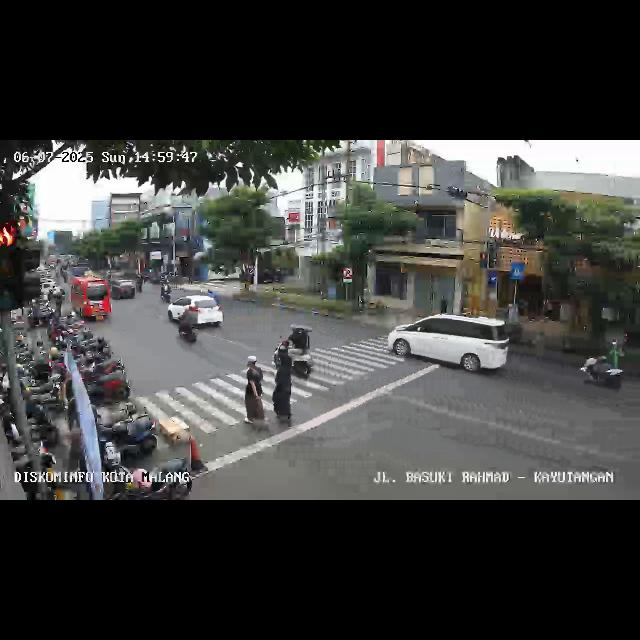car: (392, 314, 516, 378), (164, 294, 223, 328), (70, 277, 111, 323)
motorcycle: (580, 342, 628, 392), (276, 323, 314, 381), (177, 303, 200, 345), (160, 278, 170, 302)
person: (270, 344, 296, 428), (243, 358, 267, 434)
